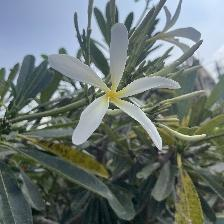champaka: (47, 22, 181, 157)
